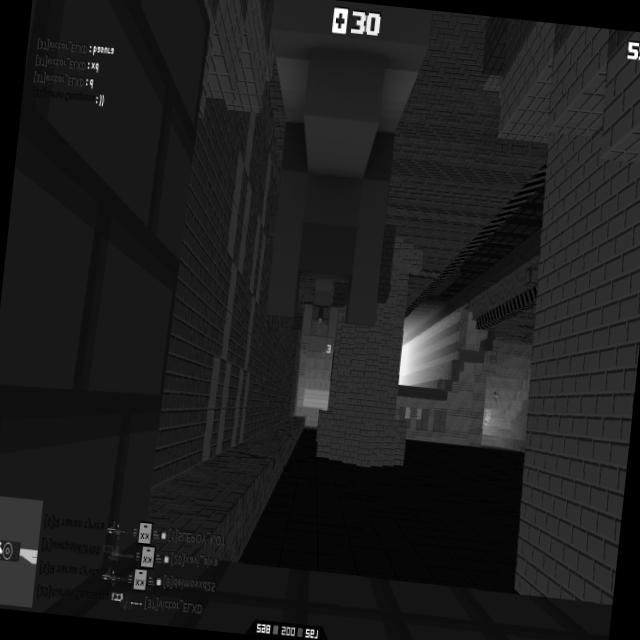enemy: (491, 381, 501, 404), (482, 407, 491, 428)
